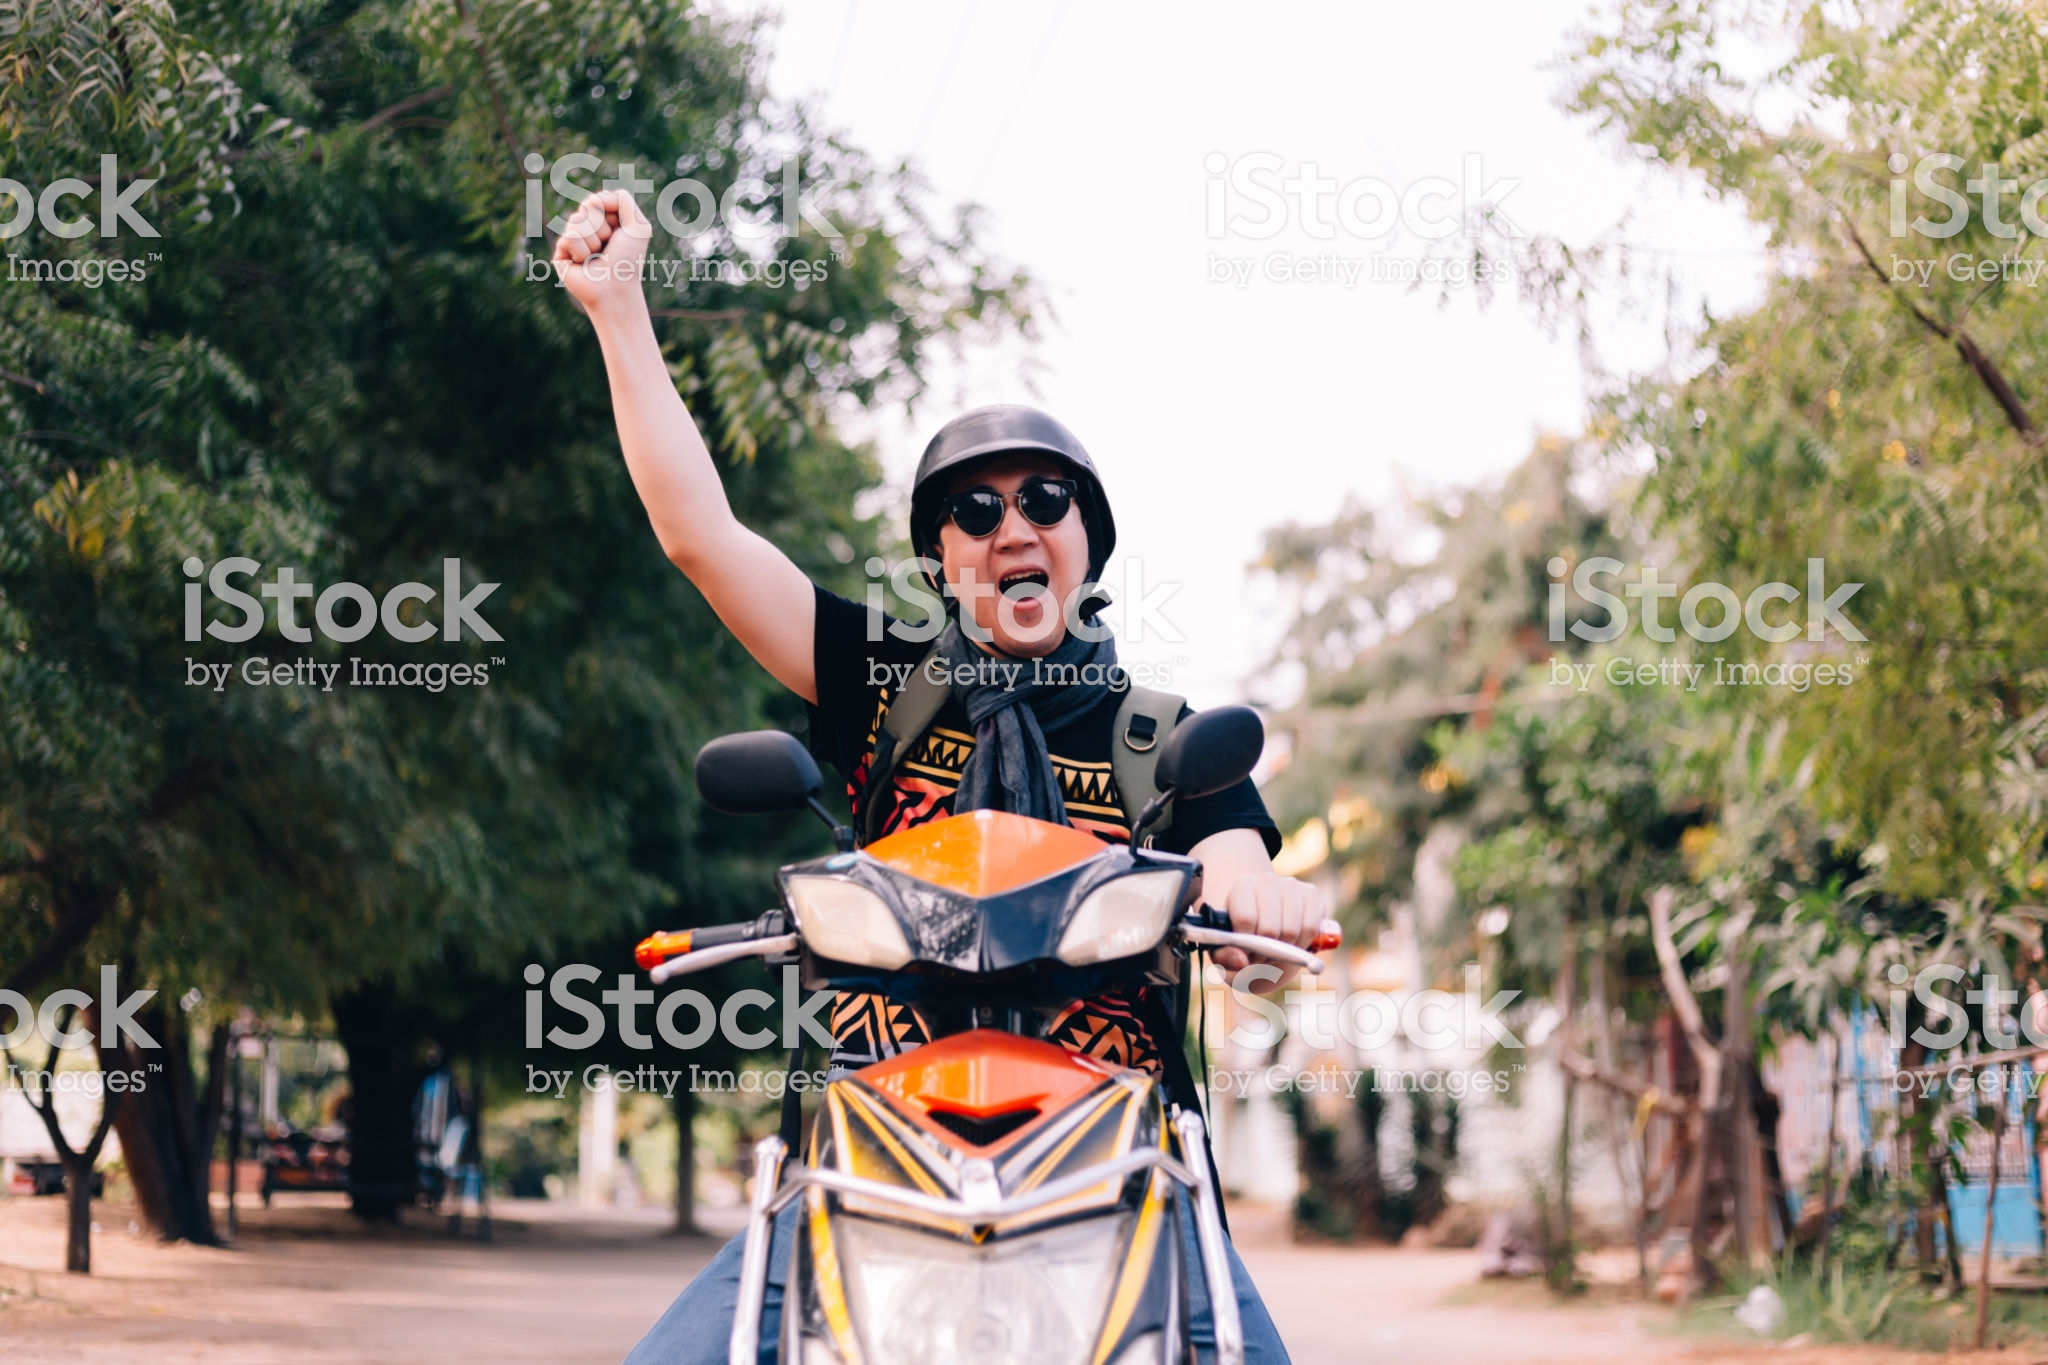helmet: (888, 373, 1119, 539)
